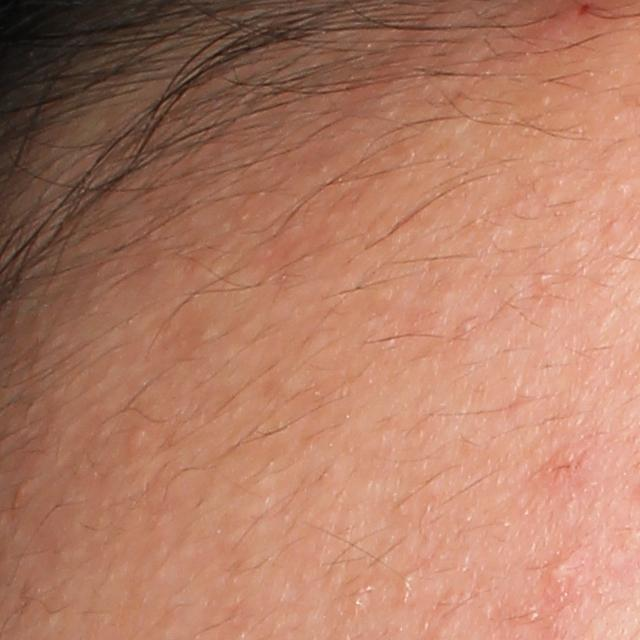comedo: (546, 560, 575, 586), (122, 426, 145, 456), (402, 572, 418, 595)
